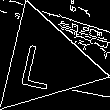L_N: (24, 34, 66, 90)
